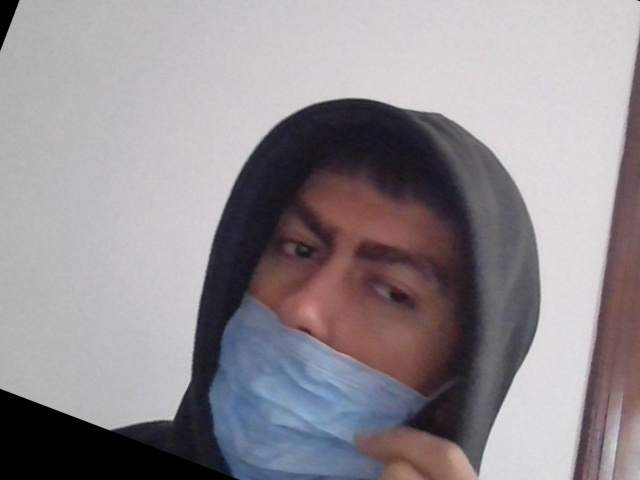mask_weared_incorrect: (199, 139, 480, 480)
